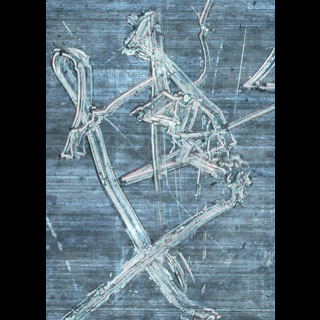d: (73, 170, 244, 320), (123, 76, 253, 204), (49, 38, 112, 169), (116, 4, 171, 80), (179, 0, 214, 88), (232, 39, 274, 103)
